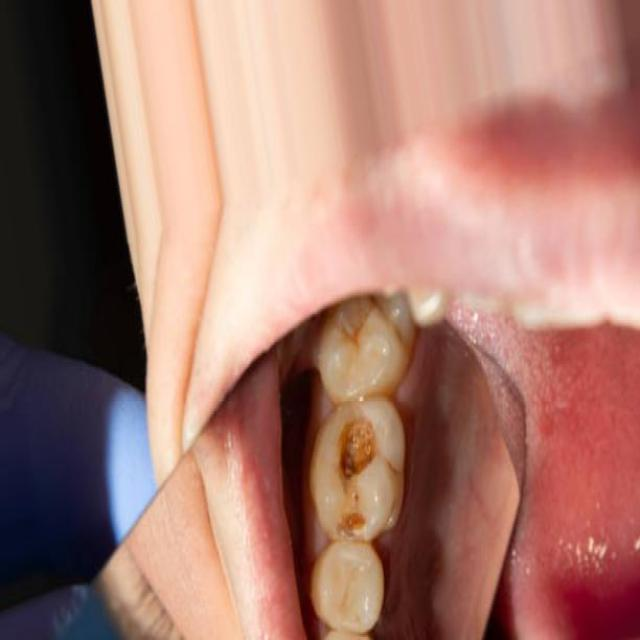caries: (310, 391, 406, 546)
